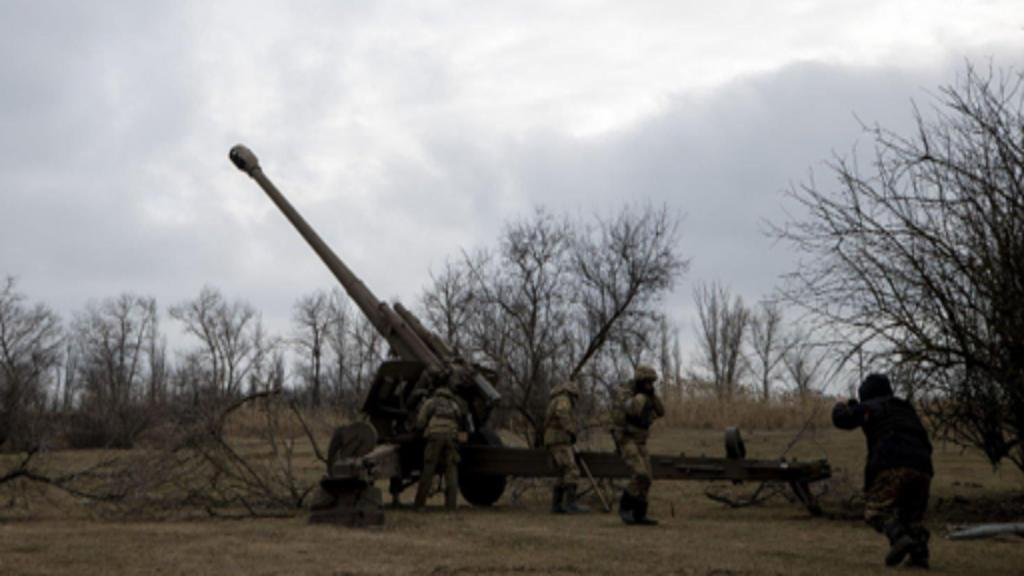ART: (226, 142, 832, 518)
